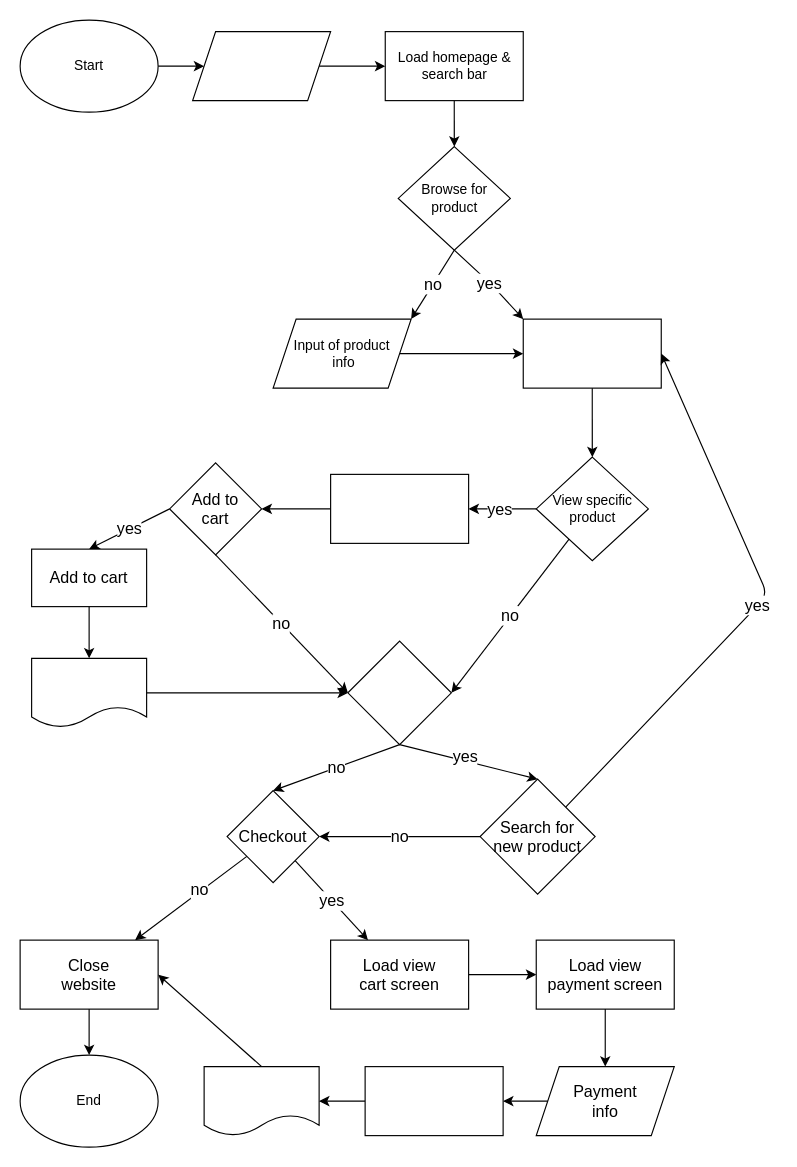
Image size: 797x1167. Some labels were removed from this diagram. Here are the shapes that lost their labels. From the top down, the box of each, then its label:
(191, 30, 331, 101): Enters website
(522, 318, 661, 388): Load products
(329, 473, 469, 543): Load specfic product's webpage
(30, 657, 147, 727): Added to cart confirmation
(347, 640, 451, 745): Continue shopping
(203, 1065, 319, 1136): Order confirmation
(364, 1065, 503, 1136): Send out email
